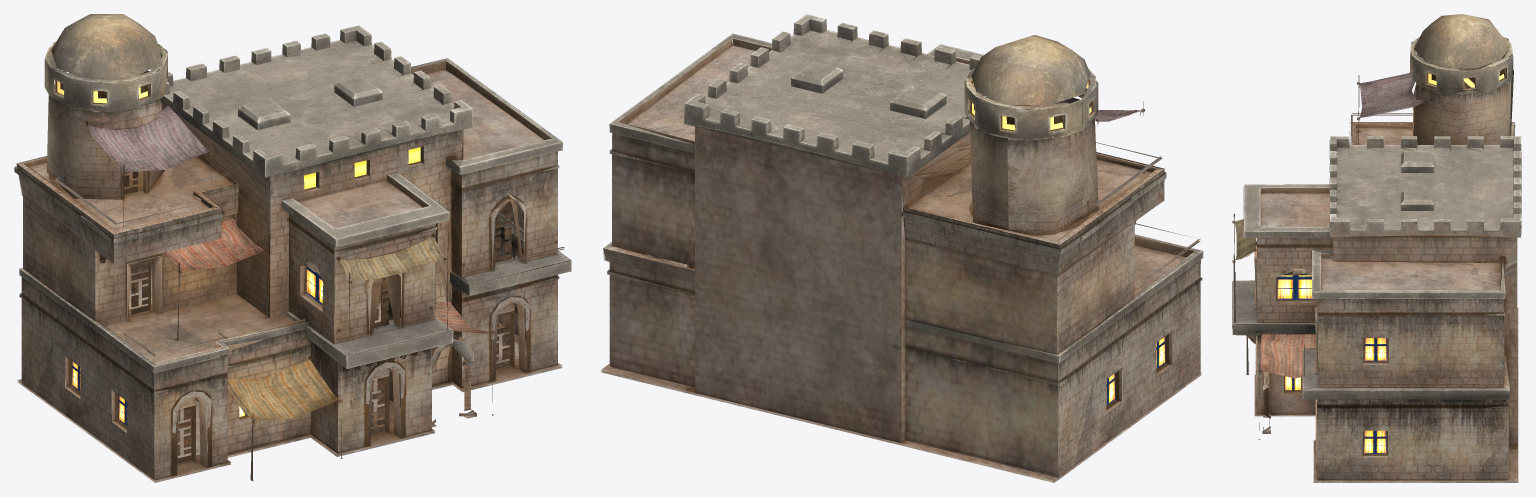
File: xi_dep_port_building_low.gltf
3 views of the same model, side by side, from view 1: azimuth 30°, elevation 25°; view 2: azimuth 150°, elevation 25°; view 3: azimuth 270°, elevation 25° (orthographic). The views are drawn at different scales.
Visible parts, largest first — view 1: xi_dep_port_building; view 2: xi_dep_port_building; view 3: xi_dep_port_building.
Part boxes in pixels (box(x1,y1,x2,y2)): xi_dep_port_building: box(14, 14, 571, 482); xi_dep_port_building: box(601, 14, 1203, 482); xi_dep_port_building: box(1232, 14, 1521, 482).
Bounding box in the file's own units: 17.08 × 14.13 × 11.8.
Materials: 4 (4 with a texture image).
